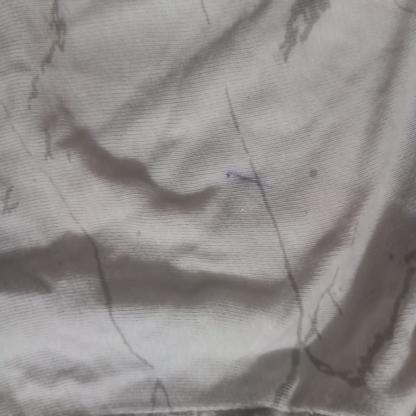spot: (227, 160, 279, 196)
